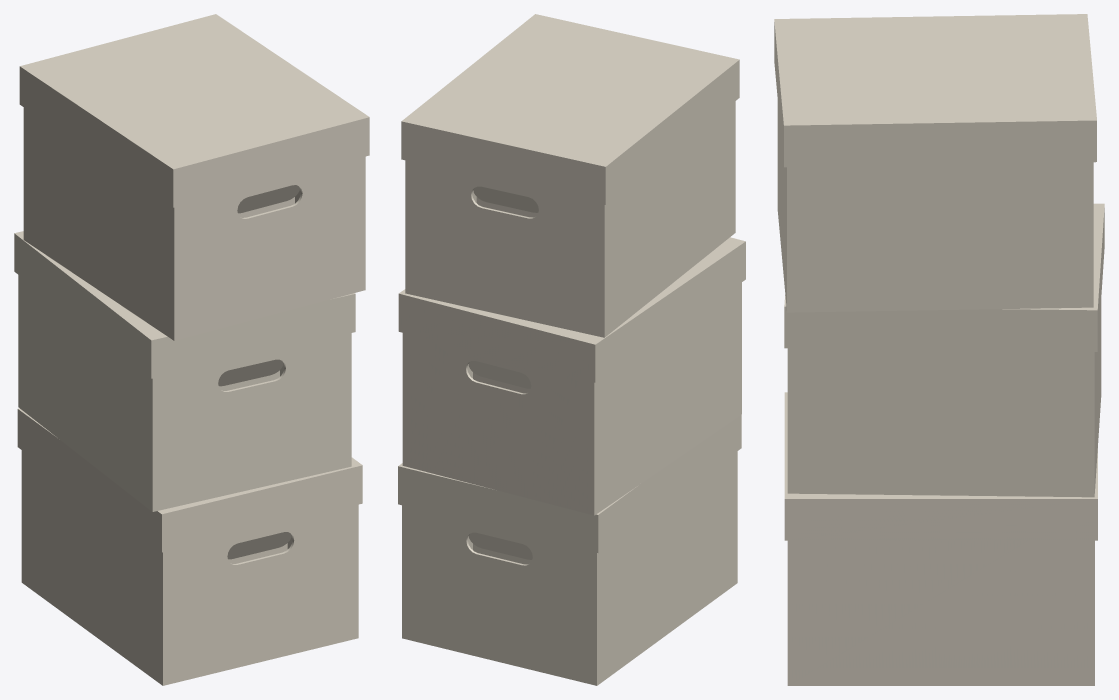
File: Kit_RecordsCarton_Stack3.fbx
The picture shows the model from 3 angles, left to right: view 1: azimuth 30°, elevation 25°; view 2: azimuth 150°, elevation 25°; view 3: azimuth 270°, elevation 25°; orthographic projection. The views are drawn at different scales.
Visible parts, largest first — view 1: Kit_RecordsCarton_Stack3_LOD0; view 2: Kit_RecordsCarton_Stack3_LOD0; view 3: Kit_RecordsCarton_Stack3_LOD0.
Part boxes in pixels (bbox=[...]): Kit_RecordsCarton_Stack3_LOD0: bbox=[14, 14, 369, 685]; Kit_RecordsCarton_Stack3_LOD0: bbox=[398, 14, 745, 685]; Kit_RecordsCarton_Stack3_LOD0: bbox=[774, 14, 1104, 685].
Size of what is drawn, in the model's own units: 0.3347 by 0.774 by 0.4102.
